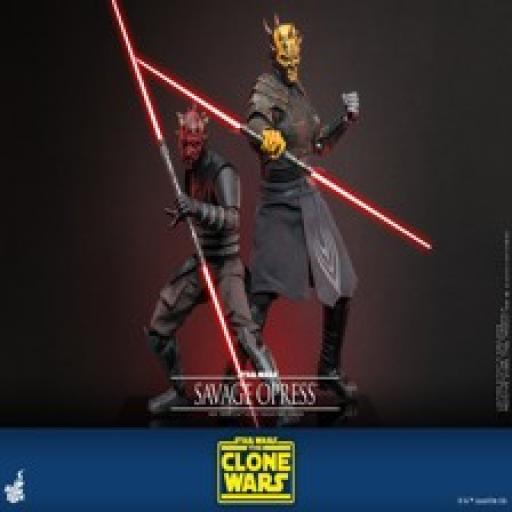sith saber: (112, 0, 262, 427), (137, 56, 430, 250)
